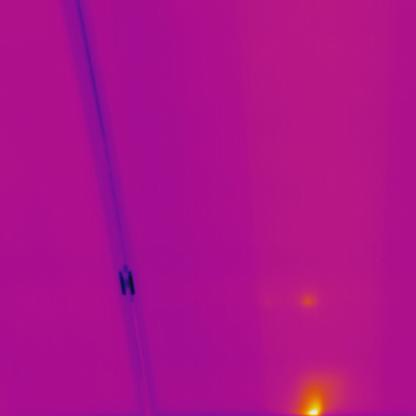hotspot: (296, 388, 334, 416)
